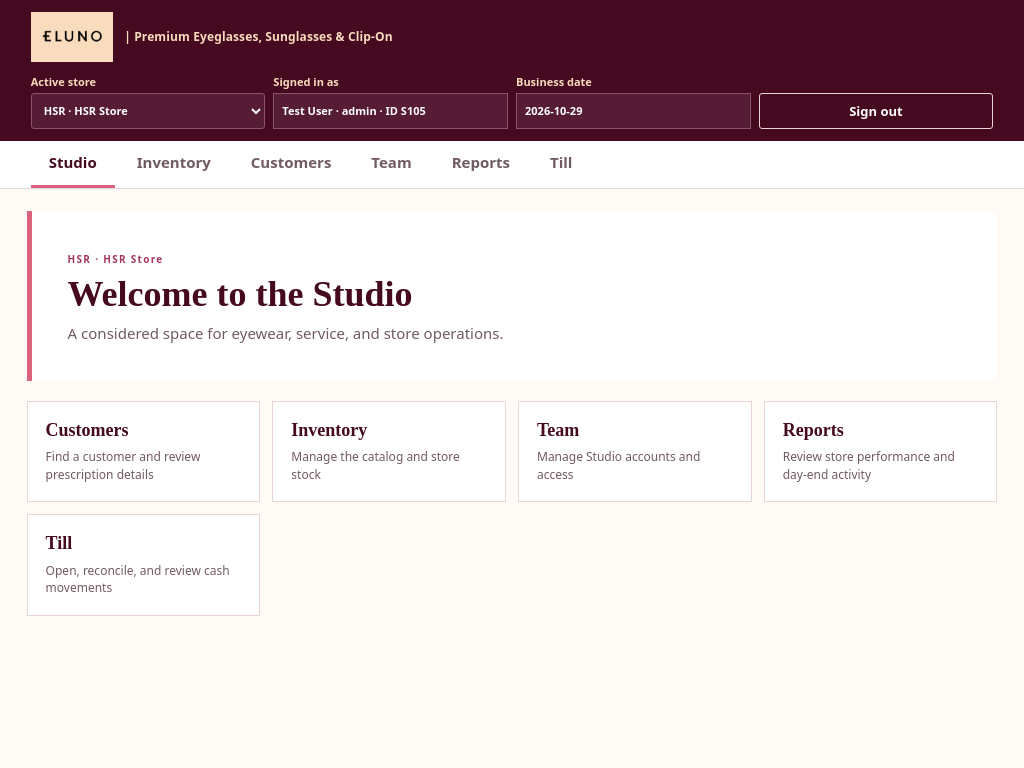
it: browser POS workflows › requires a manual clinical identity choice when multiple Optometrists match the store
Click the button "Team". click: point(391, 164)
box: x1=353 y1=141 x2=430 y2=188
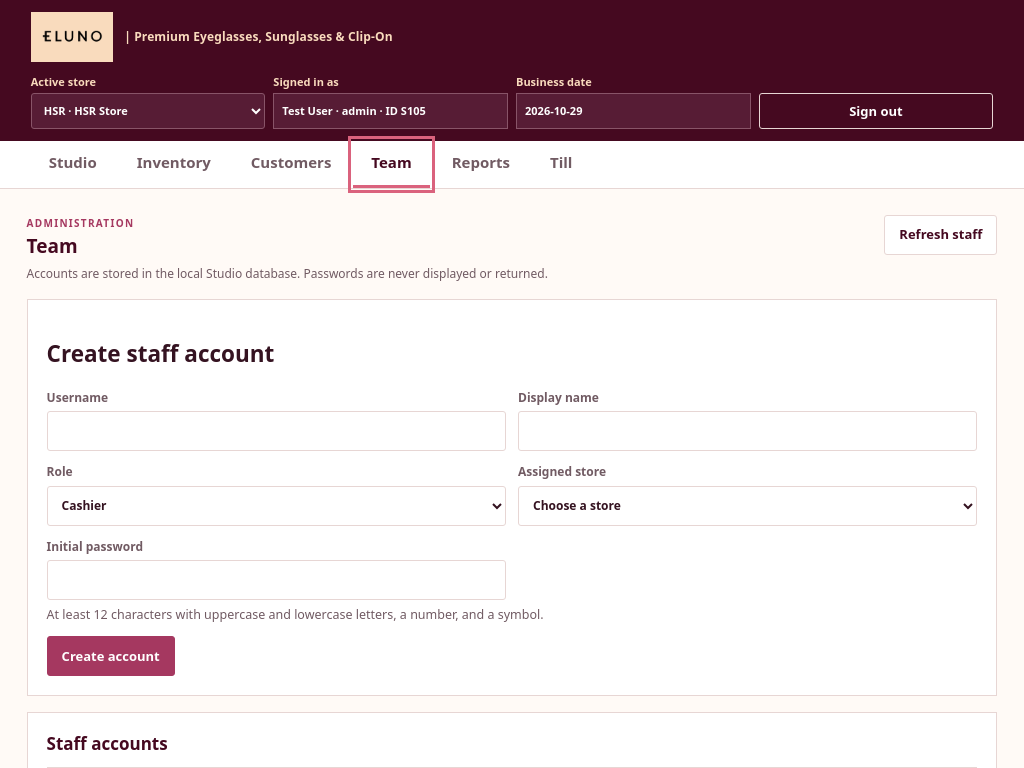
Select "Optometrist" in the dropdown labelled "Role". click: point(276, 506)
box: x1=47 y1=486 x2=506 y2=526
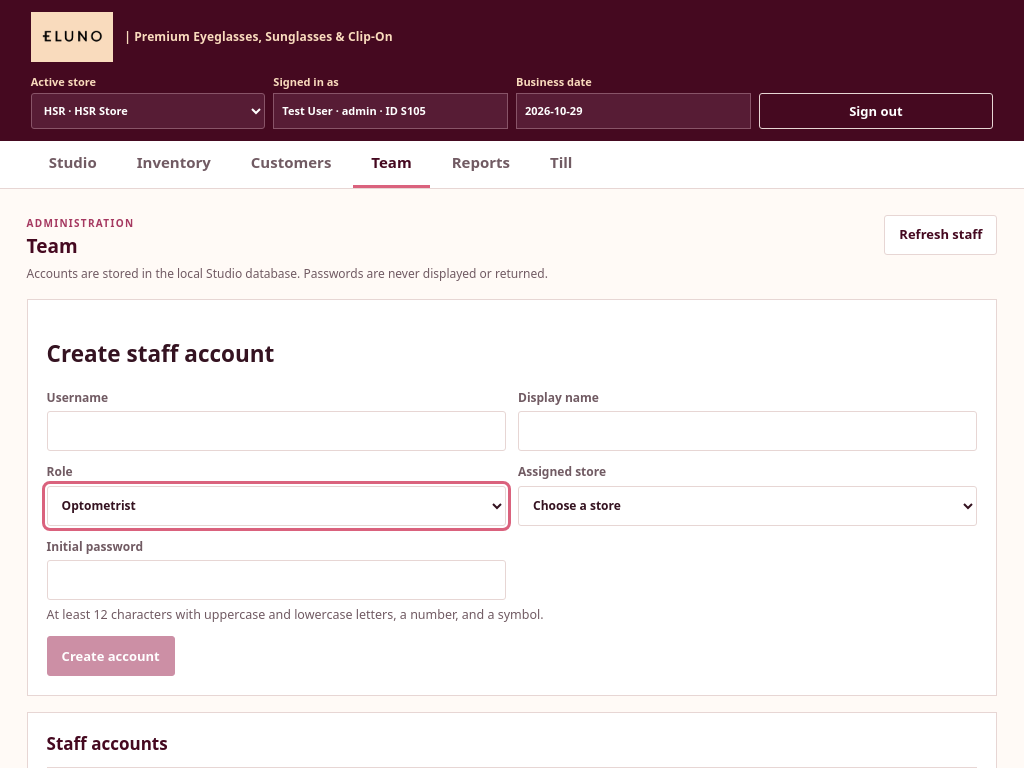
Select "HSR · HSR Store" in the dropdown labelled "Assigned store". click: point(748, 506)
box: x1=518 y1=486 x2=977 y2=526
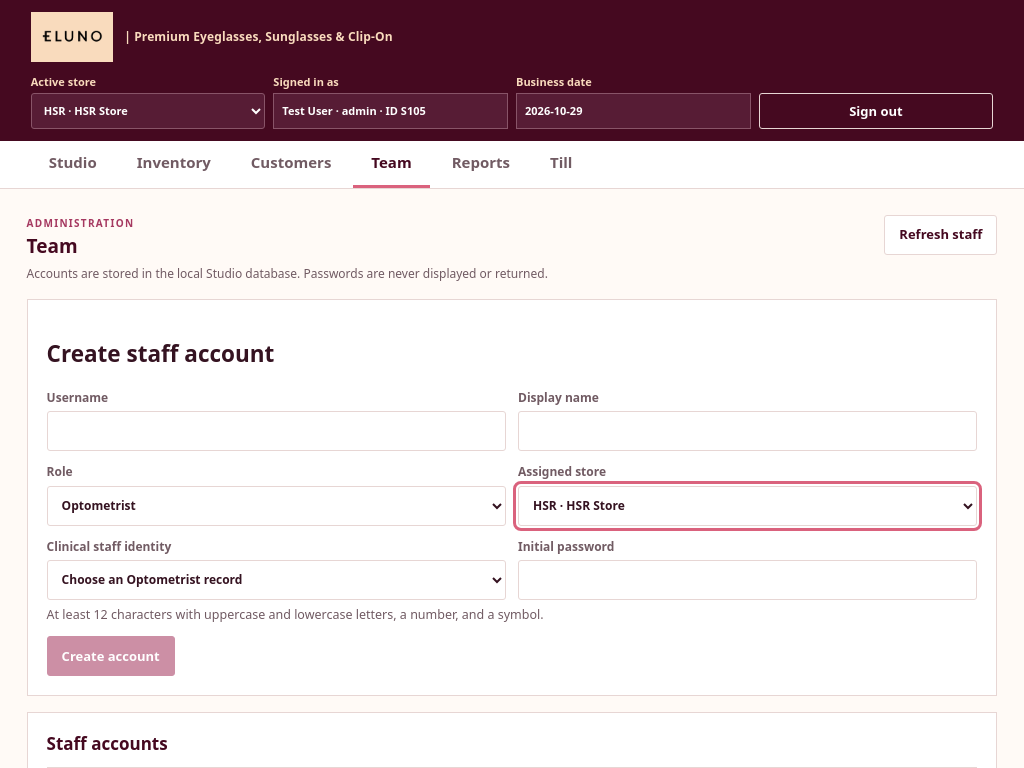
Result: the button "Create account" is disabled at x1=47 y1=636 x2=175 y2=676
Result: the dropdown labelled "Clinical staff identity" shows "Choose an Optometrist record"
Select "Second Optometrist · S108" in the dropdown labelled "Clinical staff identity". click: point(276, 580)
box: x1=47 y1=560 x2=506 y2=600
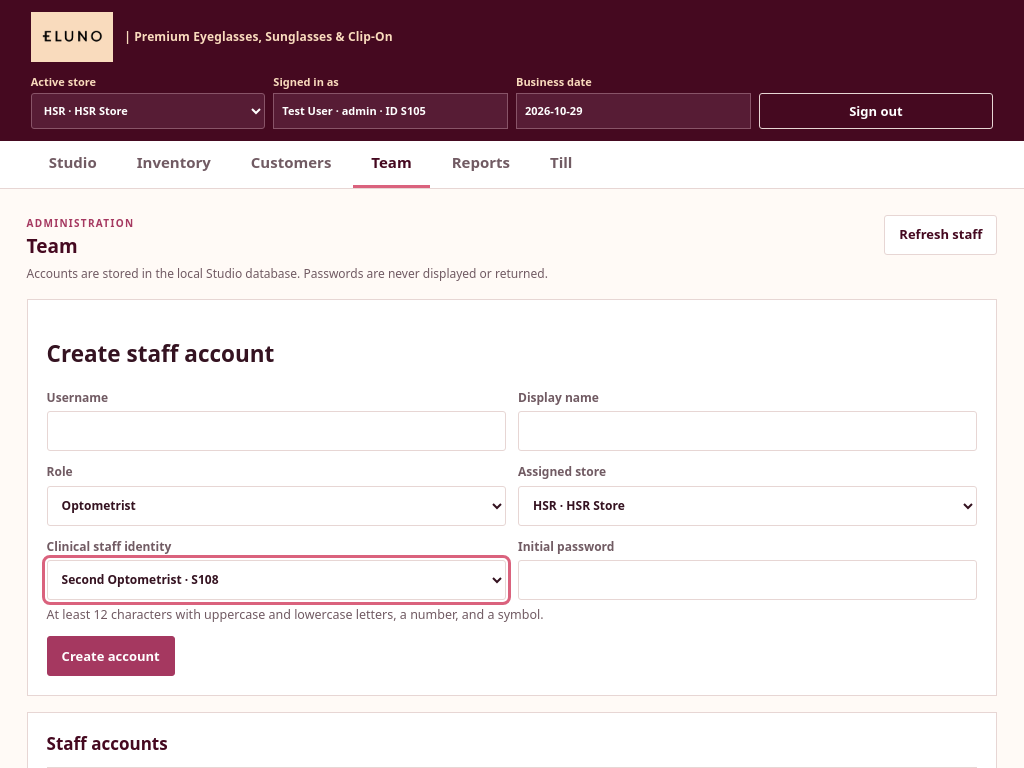
Result: the button "Create account" is enabled at x1=47 y1=636 x2=175 y2=676
